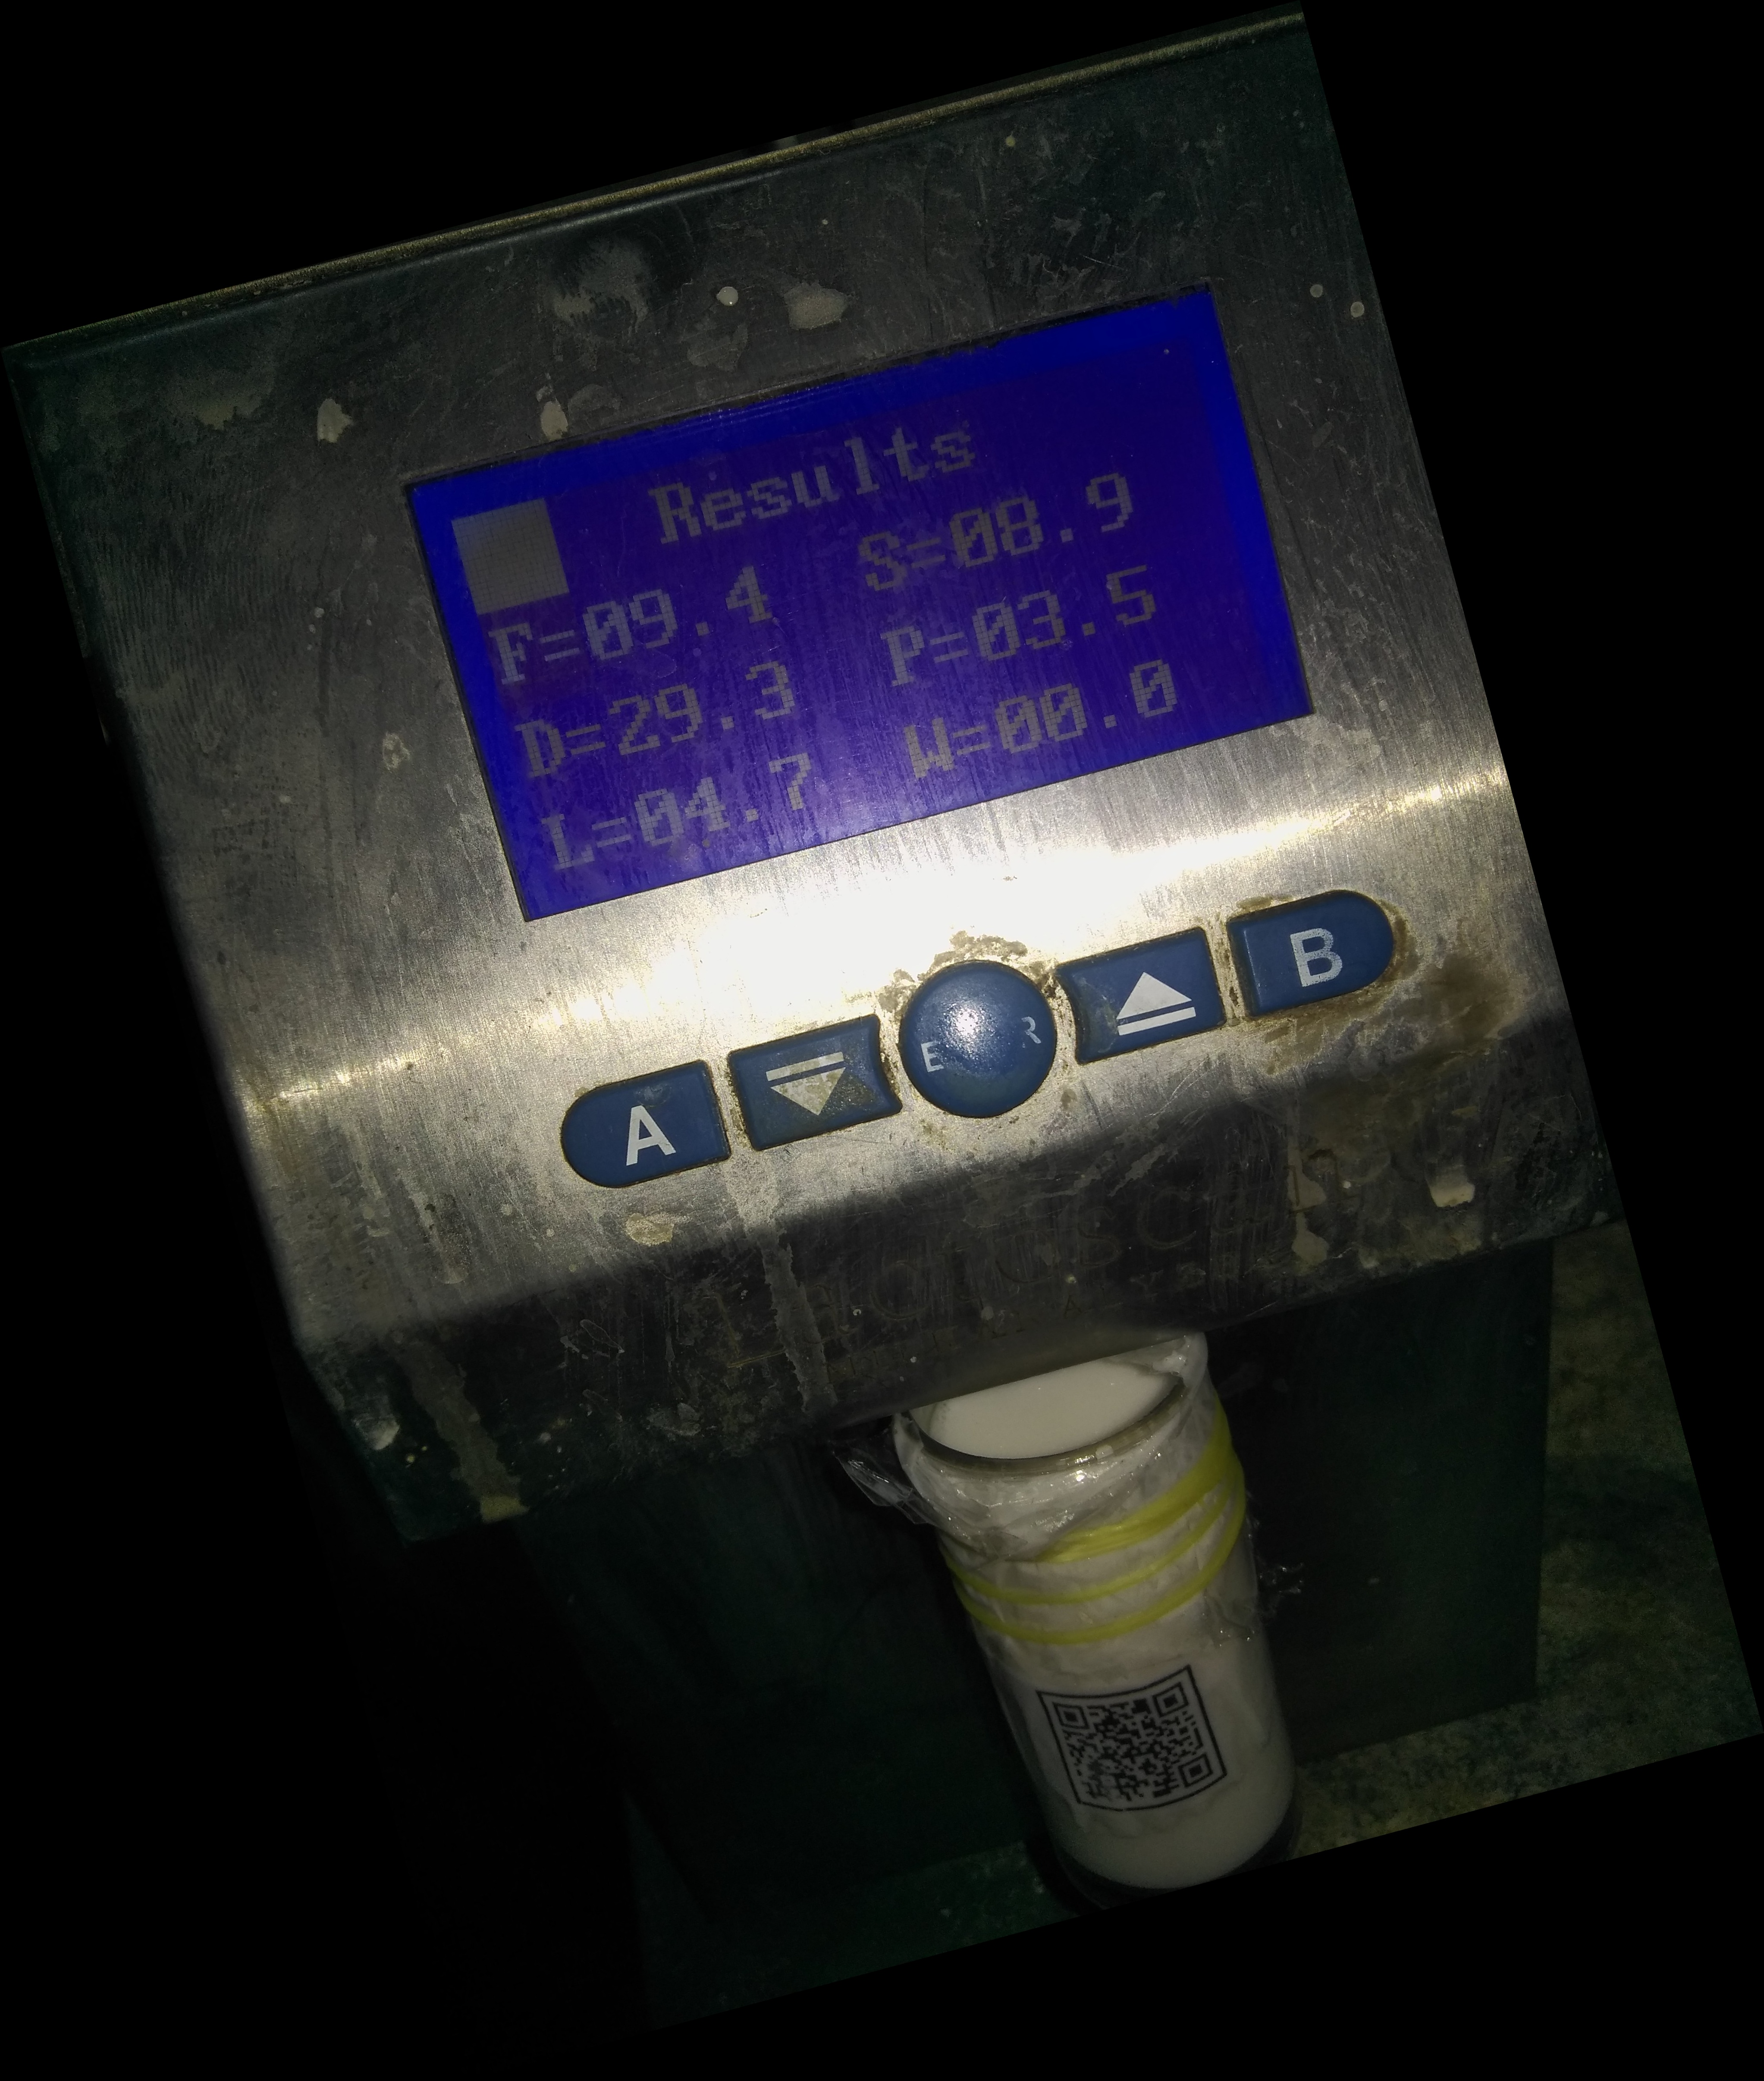lcd: (376, 280, 1365, 921)
qr: (1029, 1647, 1239, 1836)
